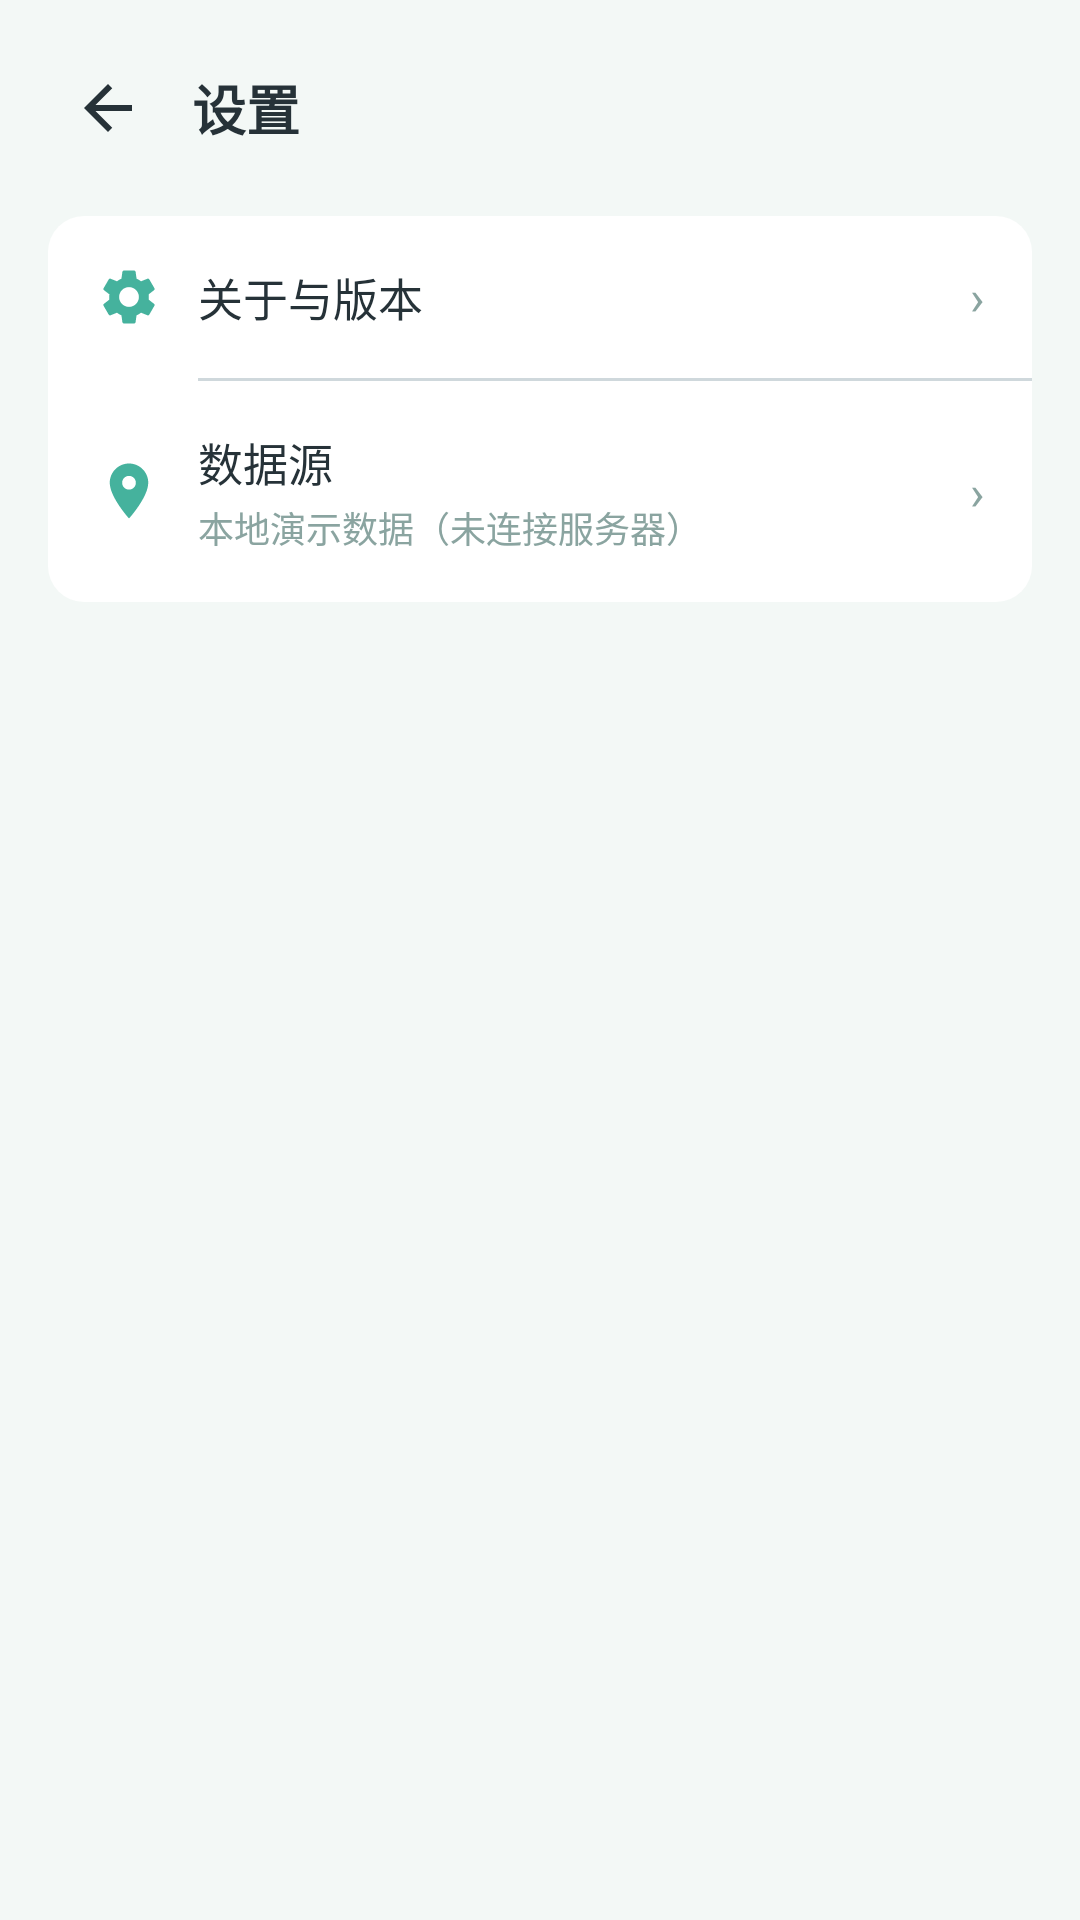

Named icons in this screenshot (1080×1920) and their bounding boxes, (x1, y1, x2, y2):
返回: (84, 84, 132, 132)
